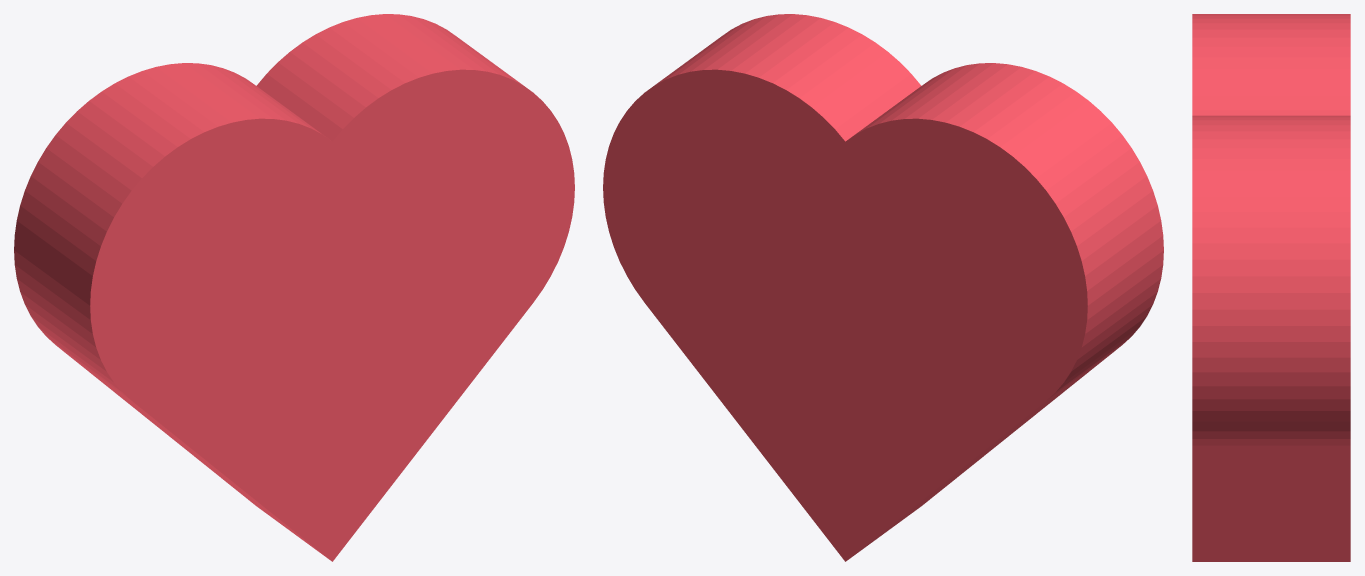
Rendered from Heart.obj.
3 views of the same model, side by side, from view 1: azimuth 30°, elevation 25°; view 2: azimuth 150°, elevation 25°; view 3: azimuth 270°, elevation 25° (orthographic). The views are drawn at different scales.
Visible parts, largest first — view 1: 円柱; view 2: 円柱; view 3: 円柱.
Boxes of the visible parts, x1,y1,x2,y2 form: 円柱: (14, 14, 574, 561); 円柱: (603, 14, 1163, 561); 円柱: (1192, 14, 1350, 561).
Size of the model in its own units: 3.41 by 3.12 by 0.9287.
Materials: 1 (1 with a texture image).
